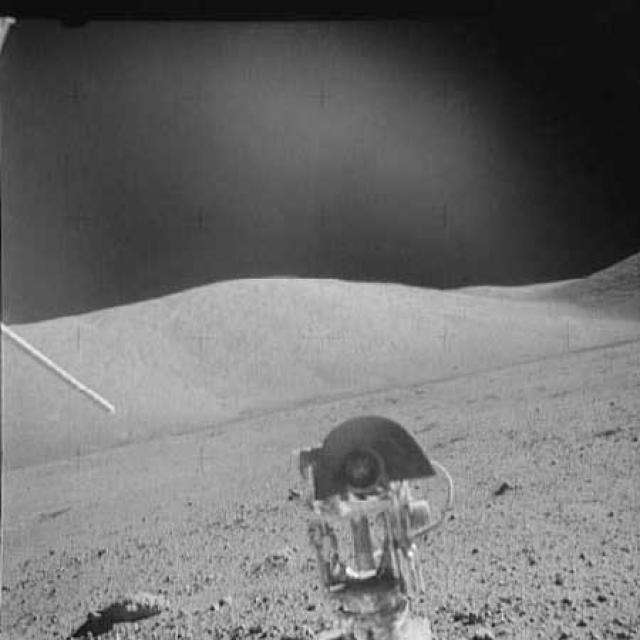artifact: (276, 406, 465, 638), (3, 308, 122, 422)
rock: (88, 581, 176, 634), (491, 473, 519, 499)
